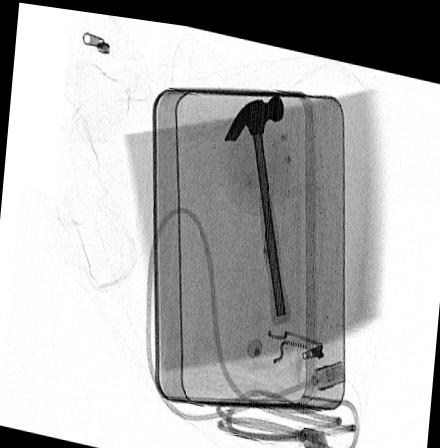Hammer: (221, 86, 290, 319)
